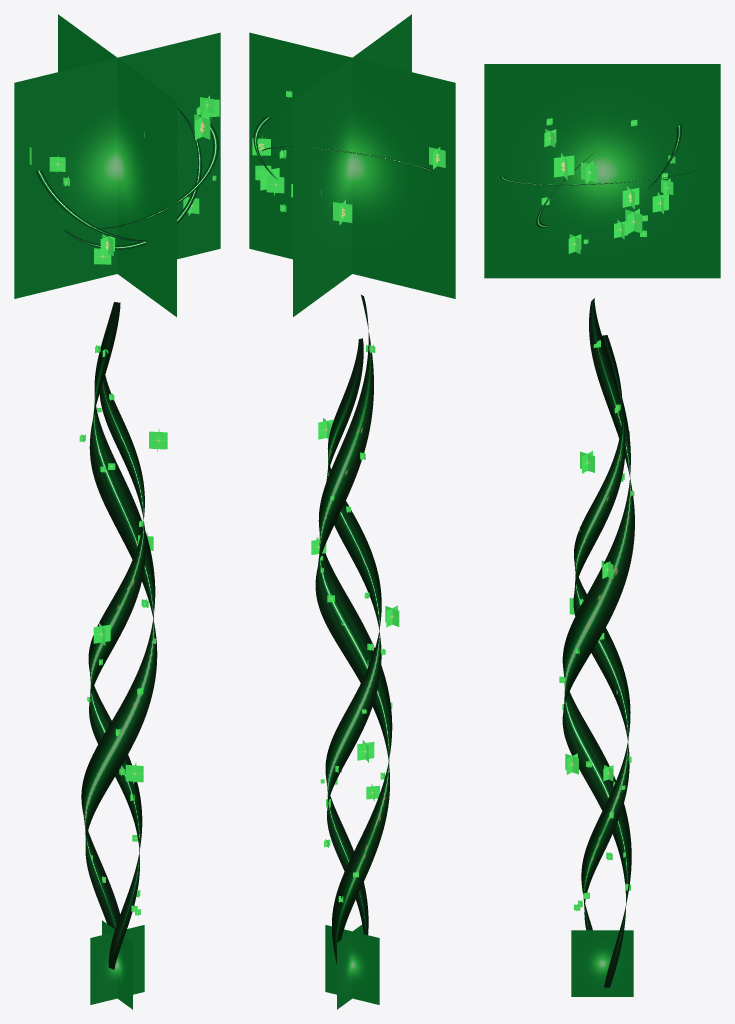
The model's file is MoneyStaffAura.glb.
3 renders of one model, left to right at view 1: azimuth 30°, elevation 25°; view 2: azimuth 150°, elevation 25°; view 3: azimuth 270°, elevation 25°, orthographic.
Parts seen in each view (by area): view 1: AuraGlow, AuraMist, AuraSpirals, AuraSparkles, AuraOrbits, AuraMotes, AuraDollars; view 2: AuraGlow, AuraMist, AuraSpirals, AuraSparkles, AuraDollars, AuraMotes, AuraOrbits; view 3: AuraGlow, AuraMist, AuraSparkles, AuraSpirals, AuraMotes, AuraDollars, AuraOrbits.
Boxes of the visible parts, x1,y1,x2,y2 form: AuraGlow: (14, 14, 220, 1009); AuraMist: (81, 302, 157, 969); AuraSpirals: (86, 381, 153, 929); AuraSparkles: (49, 95, 219, 784); AuraOrbits: (35, 107, 218, 249); AuraMotes: (63, 106, 216, 915); AuraDollars: (29, 114, 210, 256); AuraGlow: (249, 14, 455, 1009); AuraMist: (315, 295, 392, 964); AuraSpirals: (319, 295, 389, 934); AuraSparkles: (255, 165, 399, 801); AuraDollars: (252, 135, 445, 225); AuraMotes: (279, 90, 392, 902); AuraOrbits: (253, 116, 433, 179); AuraGlow: (484, 64, 720, 996); AuraMist: (562, 298, 634, 987); AuraSparkles: (544, 129, 673, 781); AuraSpirals: (565, 299, 629, 930); AuraMotes: (541, 118, 675, 911); AuraDollars: (554, 153, 639, 208); AuraOrbits: (500, 124, 696, 227).
Size of the model in its own units: 1.45 by 6.31 by 1.45.
6 materials, 4 textured.
